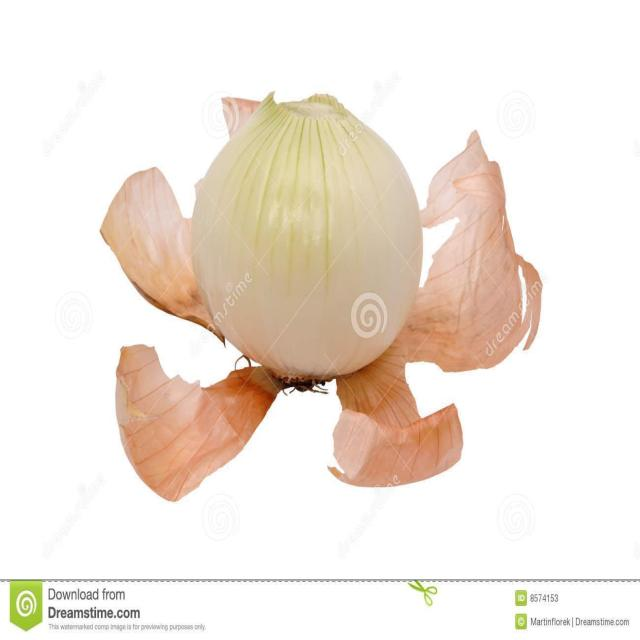Onion: (325, 128, 543, 488), (191, 89, 424, 397), (117, 345, 287, 500), (100, 166, 226, 348), (222, 91, 262, 134)
